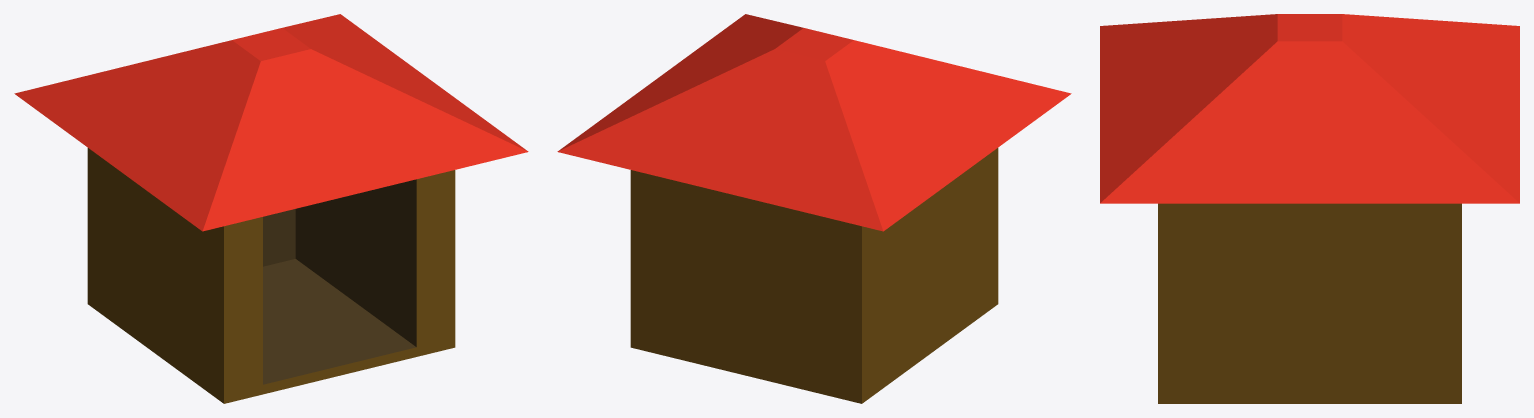
File: Perreteeee_Casa.fbx
The picture shows the model from 3 angles, left to right: view 1: azimuth 30°, elevation 25°; view 2: azimuth 150°, elevation 25°; view 3: azimuth 270°, elevation 25°; orthographic projection. The views are drawn at different scales.
Visible parts, largest first — view 1: Cube.016; view 2: Cube.016; view 3: Cube.016.
Boxes of the visible parts, x1,y1,x2,y2 form: Cube.016: [14, 14, 528, 403]; Cube.016: [557, 14, 1071, 403]; Cube.016: [1100, 14, 1519, 403].
Size of the model in its own units: 401 by 330 by 401.
